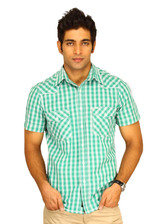clothoes: (22, 63, 142, 214)
